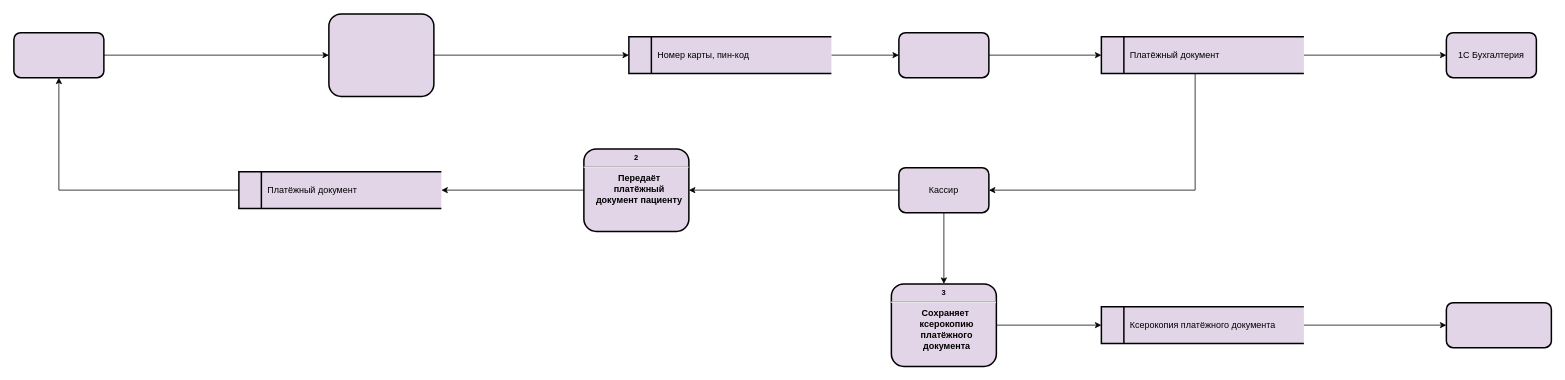
This 1565x380 diagram has some shape labels left out. Each missing label, with the box of its shape:
1 Оплачивает приём: (328, 13, 434, 97)
KKM: (898, 32, 989, 78)
Каталог Patient-FIO-BD: (1445, 302, 1552, 348)
Пациент: (13, 32, 104, 78)
